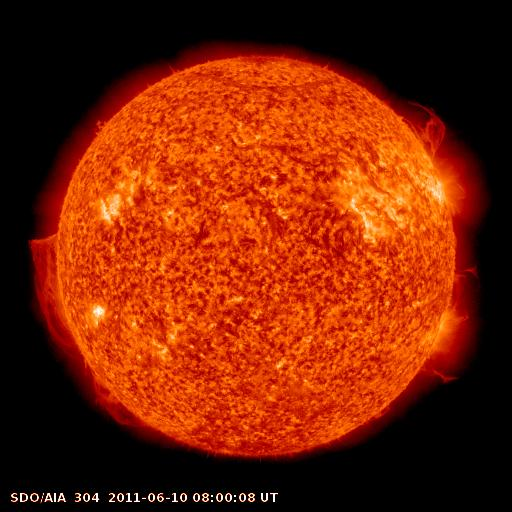prominence: (19, 230, 152, 430), (415, 263, 485, 385), (387, 85, 449, 165)
